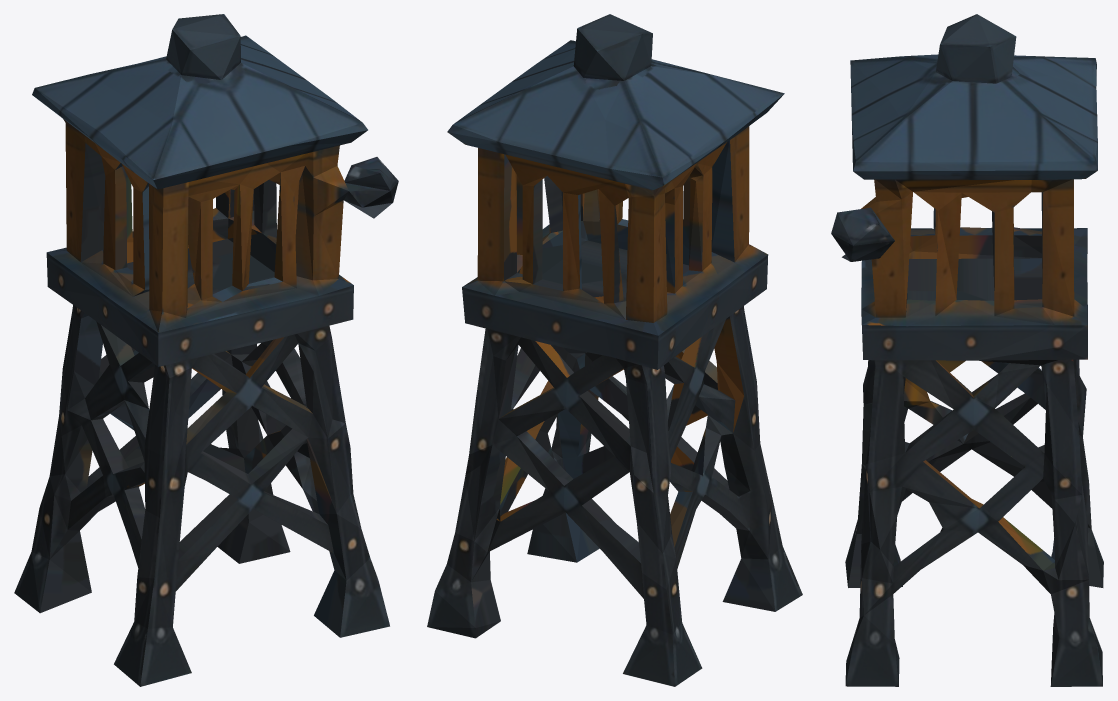
The model's file is lvl_5_archer_tower.glb.
3 renders of one model, left to right at view 1: azimuth 30°, elevation 25°; view 2: azimuth 150°, elevation 25°; view 3: azimuth 270°, elevation 25°, orthographic.
Visible parts, largest first — view 1: tmpbp_1rlci.ply; view 2: tmpbp_1rlci.ply; view 3: tmpbp_1rlci.ply.
Boxes of the visible parts, x1=… form: tmpbp_1rlci.ply: x1=14, y1=14, x2=398, y2=686; tmpbp_1rlci.ply: x1=427, y1=14, x2=802, y2=686; tmpbp_1rlci.ply: x1=831, y1=14, x2=1103, y2=686.
Bounding box in the file's own units: 0.9151 × 1.96 × 0.8112.
Materials: 1 (1 with a texture image).
